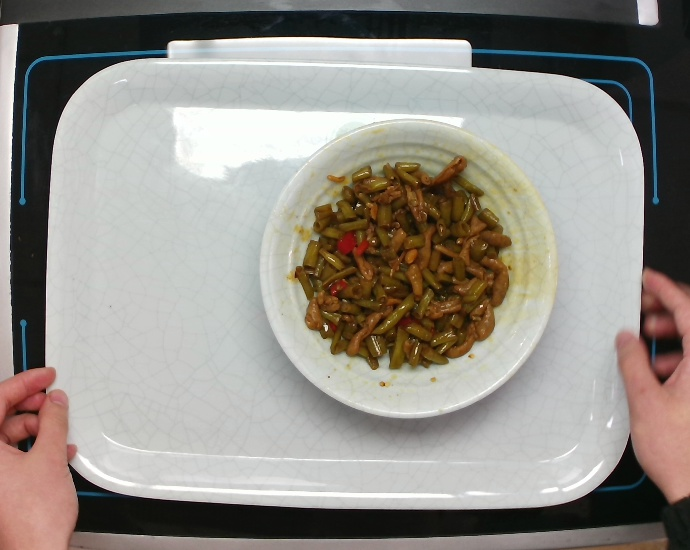JYsf-Xiao_Tang_Wan: (256, 116, 562, 424)
